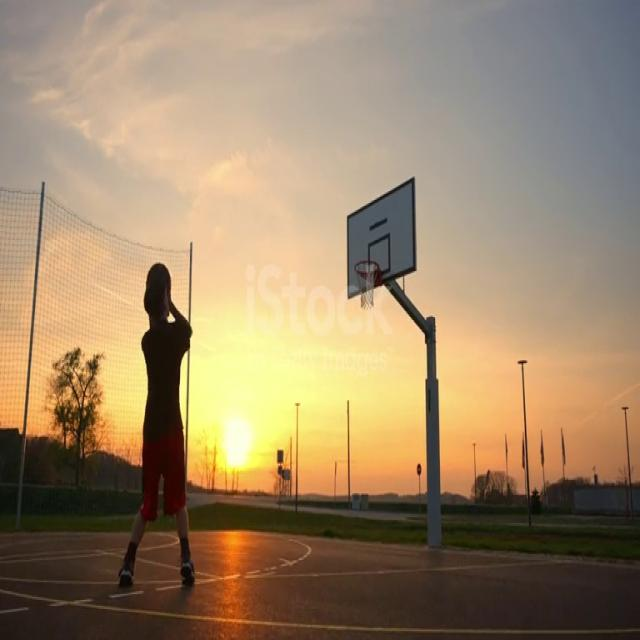ball: (146, 264, 171, 306)
